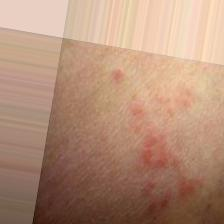Mosquito: (135, 177, 175, 216), (139, 133, 176, 169), (175, 175, 204, 198)
